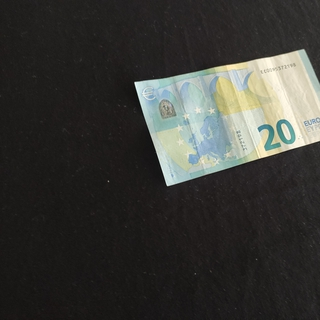20EUROBack: (134, 49, 320, 187)
